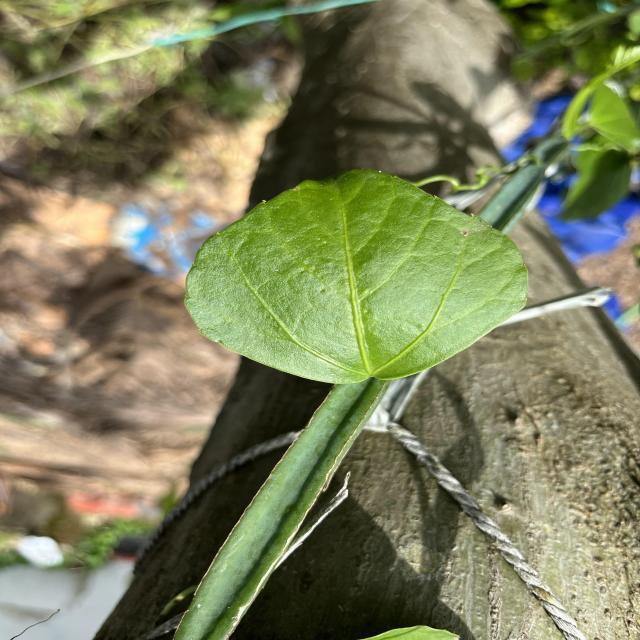Cissus quadrangularis: (181, 166, 531, 386)
